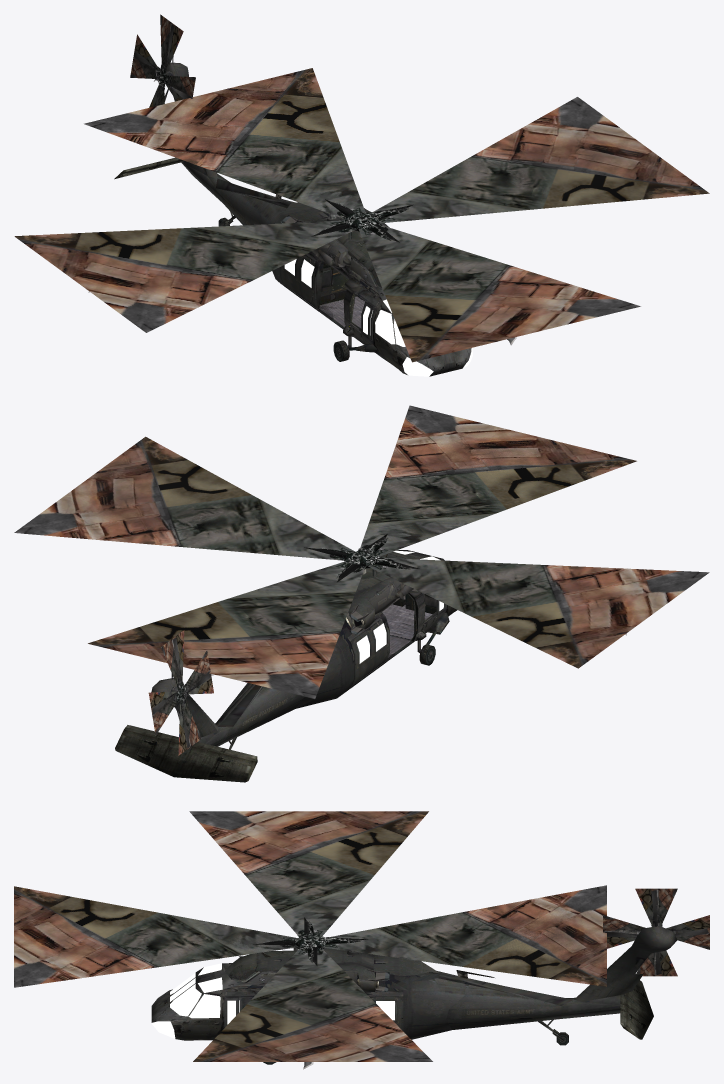
Rendered from fblkhawd.glb.
3 renders of one model, top to bottom at view 1: azimuth 30°, elevation 25°; view 2: azimuth 150°, elevation 25°; view 3: azimuth 270°, elevation 25°, orthographic. The views are drawn at different scales.
Visible parts, largest first — view 1: 03 Mesh0.003, 01 Mesh0, 01 Mesh0.001, 03 Mesh1, 05 Mesh0.003, 01 Mesh0.002, 01 Mesh0.003, 02 Mesh0, 01 Mesh1.002; view 2: 03 Mesh0.003, 01 Mesh0, 01 Mesh0.001, 03 Mesh1, 05 Mesh0.003, 01 Mesh0.002, 02 Mesh0; view 3: 03 Mesh0.003, 01 Mesh0, 01 Mesh0.001, 03 Mesh1, 05 Mesh0.003, 01 Mesh0.002, 01 Mesh1.002, 02 Mesh0, 01 Mesh2, 04 Mesh0.003.
Boxes of the visible parts, box(x1,y1,x2,y2) form: 03 Mesh0.003: box(14, 68, 709, 362); 01 Mesh0: box(127, 66, 470, 376); 01 Mesh0.001: box(114, 62, 471, 368); 03 Mesh1: box(504, 140, 645, 188); 05 Mesh0.003: box(130, 14, 195, 107); 01 Mesh0.002: box(114, 173, 421, 363); 01 Mesh0.003: box(117, 174, 373, 328); 02 Mesh0: box(88, 199, 516, 345); 01 Mesh1.002: box(284, 259, 472, 373); 03 Mesh0.003: box(14, 405, 709, 698); 01 Mesh0: box(115, 550, 457, 782); 01 Mesh0.001: box(115, 551, 450, 781); 03 Mesh1: box(76, 438, 511, 527); 05 Mesh0.003: box(148, 630, 213, 755); 01 Mesh0.002: box(216, 577, 445, 726); 02 Mesh0: box(211, 534, 626, 675); 03 Mesh0.003: box(14, 811, 606, 1061); 01 Mesh0: box(151, 927, 676, 1045); 01 Mesh0.001: box(158, 926, 674, 1064); 03 Mesh1: box(218, 924, 605, 1060); 05 Mesh0.003: box(603, 888, 709, 976); 01 Mesh0.002: box(159, 953, 620, 1028); 01 Mesh1.002: box(152, 989, 394, 1036); 02 Mesh0: box(253, 917, 367, 1069); 01 Mesh2: box(152, 963, 222, 1036); 04 Mesh0.003: box(604, 889, 708, 975).
Size of the model in its own units: 25.11 by 7.26 by 29.48.
Materials: 10 (6 with a texture image).
